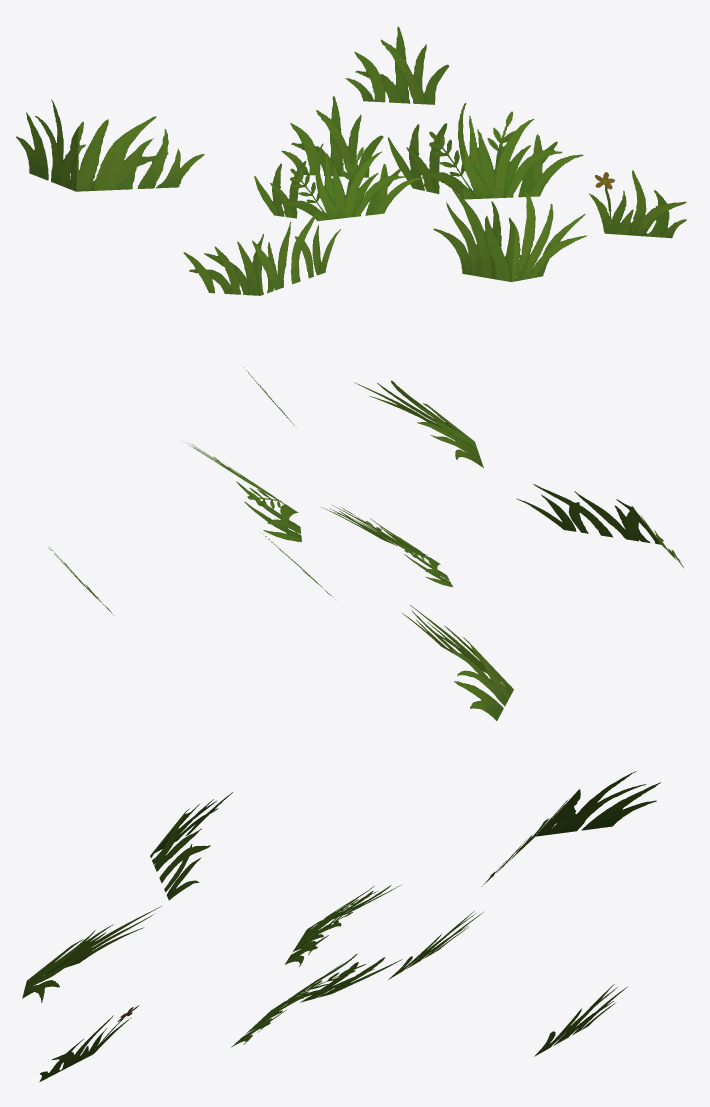
The model's file is grass_12.FBX.
The picture shows the model from 3 angles, top to bottom: view 1: azimuth 30°, elevation 25°; view 2: azimuth 150°, elevation 25°; view 3: azimuth 270°, elevation 25°; orthographic projection. The views are drawn at different scales.
Visible parts, largest first — view 1: 对象011; view 2: 对象011; view 3: 对象011.
Part boxes in pixels (box(x1,y1,x2,y2)): 对象011: box(16, 26, 686, 295); 对象011: box(48, 367, 684, 720); 对象011: box(22, 771, 660, 1081).
Size of the model in its own units: 1.96 by 0.2579 by 2.01.
1 material, 1 textured.
